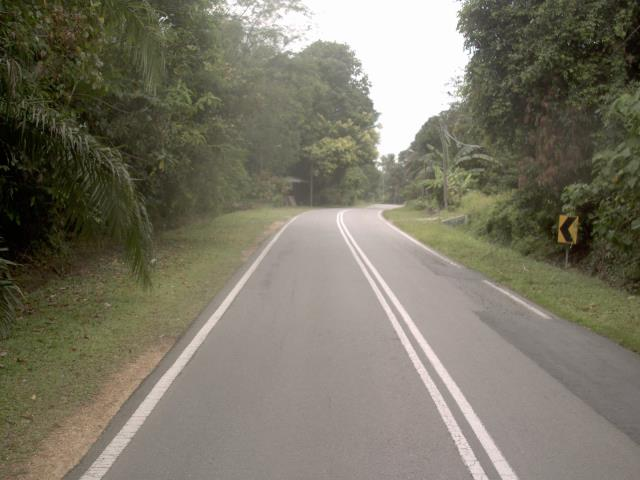traffic_sign: (549, 207, 585, 252)
